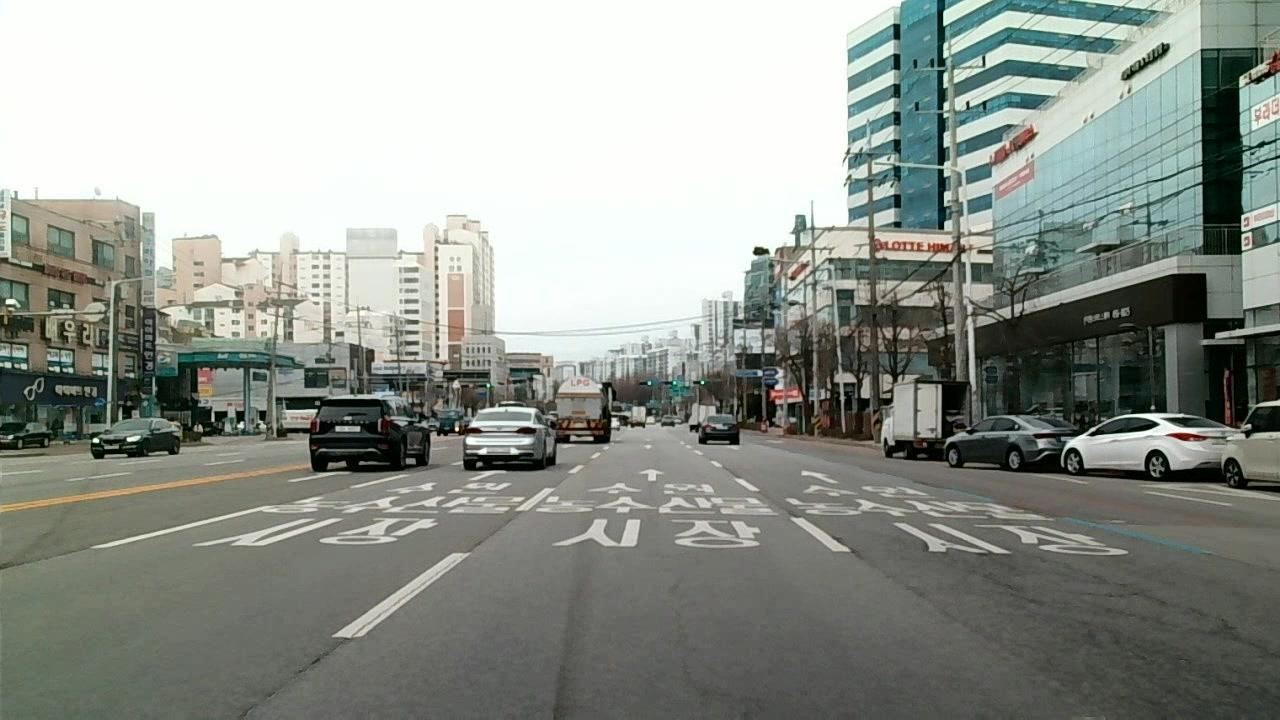erosion: (941, 548, 1246, 713)
vcrack: (223, 636, 358, 720), (470, 512, 517, 554), (820, 526, 864, 564), (758, 491, 796, 517), (721, 466, 738, 479)
